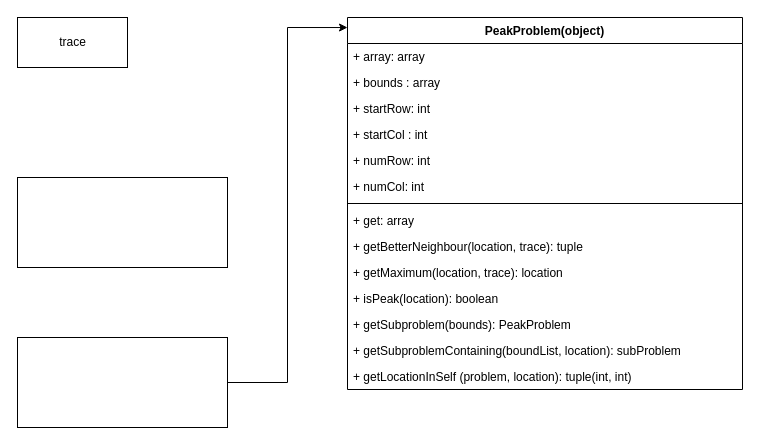
This 760x445 diagram has some shape labels left out. The shapes that lost their labels are listed below. From the top down, each one's centre as x and y in pixels, then its label:
the point at 122,222: getDimensions:tuple(int,int) array: List
the point at 122,382: createProblem: PeakProblem array: List
